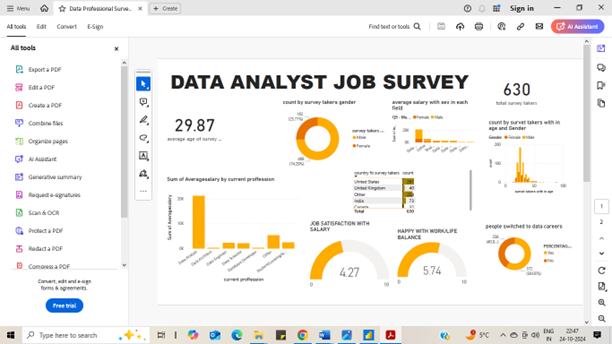

What the dashboard file says about the page in this screenshot:
{"tool":"powerbi","page":{"name":"Page 1","canvas":[1280,720],"ordinal":0},"visuals":[{"type":"textbox","box":[10.1,0,969.2,100.8],"z":0},{"type":"card","fields":{"Values":["CountNonNull(Data Professional Survey.Unique ID)"]},"box":[1005.3,0,184.2,150],"z":1000},{"type":"donutChart","fields":{"Y":["Data Professional Survey.count"],"Category":["Data Professional Survey.Q9 - Male/Female?"]},"box":[361.8,101.3,330.3,230.3],"z":2000},{"type":"columnChart","fields":{"Category":["Data Professional Survey.Q1 - Which Title Best Fits your Current Role?.1","Data Professional Survey.Q9 - Male/Female?"],"Y":["Sum(Data Professional Survey.Averagesalary)"]},"box":[0,342.3,427.3,336.2],"z":3000},{"type":"clusteredColumnChart","fields":{"Y":["Data Professional Survey.count"],"Category":["Data Professional Survey.Q10 - Current Age (bins)"],"Series":["Data Professional Survey.Q9 - Male/Female?"]},"box":[1005.3,164.5,251.3,236.8],"z":4000},{"type":"tableEx","fields":{"Values":["Data Professional Survey.Q11 - Which Country do you live in?.1","Data Professional Survey.count"]},"box":[578.9,317.1,384.2,150],"z":5000},{"type":"donutChart","title":"people switched to data careers","fields":{"Y":["Data Professional Survey.count"],"Category":["Data Professional Survey.Q2 - Did you switch careers into Data?"]},"box":[996.1,489.5,284.2,173.7],"z":6000},{"type":"card","fields":{"Values":["Avg(Data Professional Survey.Q10 - Current Age)"]},"box":[0,127.6,182.9,119.7],"z":7000},{"type":"gauge","title":"JOB SATISFACTION WITH SALARY","fields":{"Y":["Avg(Data Professional Survey.Q6 - How Happy are you in your Current Position with the following? (Salary))"],"MinValue":["Min(Data Professional Survey.Q6 - How Happy are you in your Current Position with the following? (Salary))"],"MaxValue":["Max(Data Professional Survey.Q6 - How Happy are you in your Current Position with the following? (Salary))"]},"box":[447.4,480.3,256.6,239.5],"z":8000},{"type":"gauge","title":"HAPPY WITH WORK/LIFE BALANCE","fields":{"Y":["Avg(Data Professional Survey.Q6 - How Happy are you in your Current Position with the following? (Work/Life Balance))"],"MinValue":["Min(Data Professional Survey.Q6 - How Happy are you in your Current Position with the following? (Work/Life Balance))"],"MaxValue":["Max(Data Professional Survey.Q6 - How Happy are you in your Current Position with the following? (Work/Life Balance))1"]},"box":[719.7,505.3,226.3,189.5],"z":9000},{"type":"columnChart","title":"average salary with sex in each field","fields":{"Category":["Data Professional Survey.Q1 - Which Title Best Fits your Current Role?.1"],"Y":["Sum(Data Professional Survey.Averagesalary)"],"Series":["Data Professional Survey.Q9 - Male/Female?"]},"box":[703.9,101.3,276.3,181.6],"z":10000}]}

Visuals, with their boxes on the page's 1280x720 design canvas (x1, y1, x2, y2). These are canvas units, not pixel positions in the 612x344 screenshot, which may show the page scaled, cropped or inside an application window:
textbox: 10 0 979 101
card - CountNonNull(Data Professional Survey.Unique ID): 1005 0 1190 150
donutChart - Data Professional Survey.count x Data Professional Survey.Q9 - Male/Female?: 362 101 692 332
columnChart - Data Professional Survey.Q1 - Which Title Best Fits your Current Role?.1 x Data Professional Survey.Q9 - Male/Female?: 0 342 427 678
clusteredColumnChart - Data Professional Survey.count x Data Professional Survey.Q10 - Current Age (bins): 1005 164 1257 401
tableEx - Data Professional Survey.Q11 - Which Country do you live in?.1 x Data Professional Survey.count: 579 317 963 467
"people switched to data careers" donutChart: 996 490 1280 663
card - Avg(Data Professional Survey.Q10 - Current Age): 0 128 183 247
"JOB SATISFACTION WITH SALARY" gauge: 447 480 704 720
"HAPPY WITH WORK/LIFE BALANCE" gauge: 720 505 946 695
"average salary with sex in each field" columnChart: 704 101 980 283
